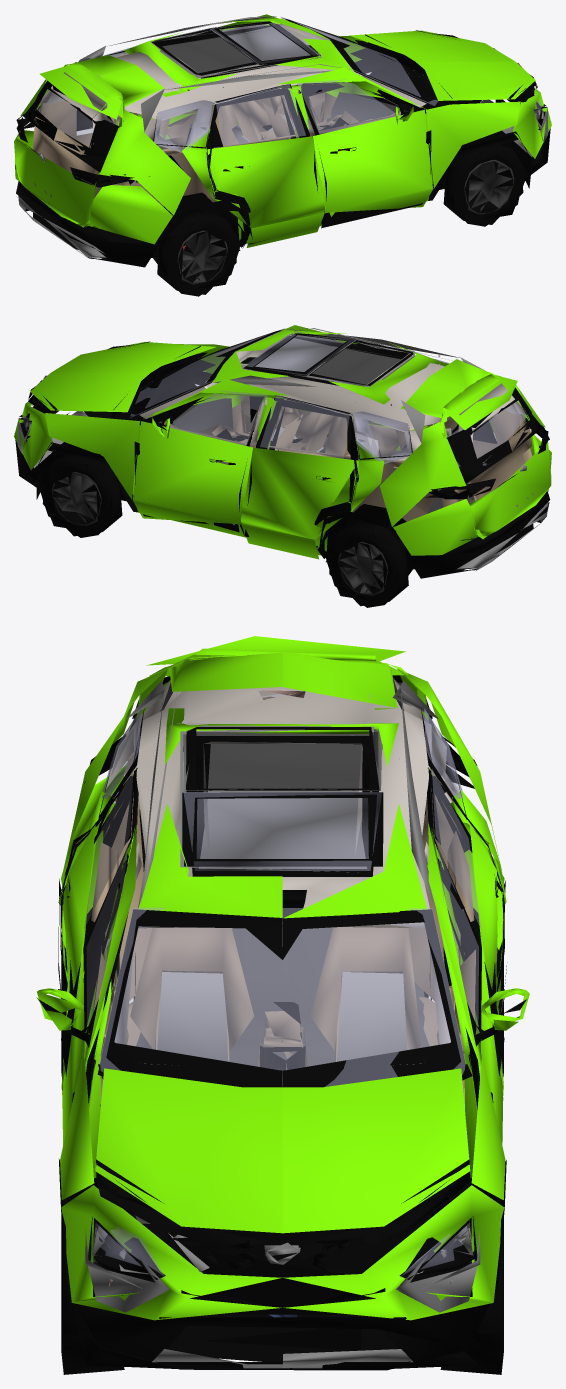
The model's file is safari.glb.
The picture shows the model from 3 angles, top to bottom: view 1: azimuth 30°, elevation 25°; view 2: azimuth 150°, elevation 25°; view 3: azimuth 270°, elevation 25°; orthographic projection. The views are drawn at different scales.
Parts seen in each view (by area): view 1: car_detail, car_paint, car_glass; view 2: car_detail, car_paint, car_glass; view 3: car_detail, car_paint, car_glass.
Boxes of the visible parts, x1,y1,x2,y2 form: car_detail: [16, 16, 550, 296]; car_paint: [14, 14, 551, 247]; car_glass: [34, 17, 542, 229]; car_detail: [15, 328, 550, 607]; car_paint: [14, 325, 551, 559]; car_glass: [22, 328, 548, 540]; car_detail: [39, 675, 526, 1374]; car_paint: [36, 636, 529, 1320]; car_glass: [84, 682, 480, 1277].
Bounding box in the file's own units: 4.66 × 1.76 × 2.05.
